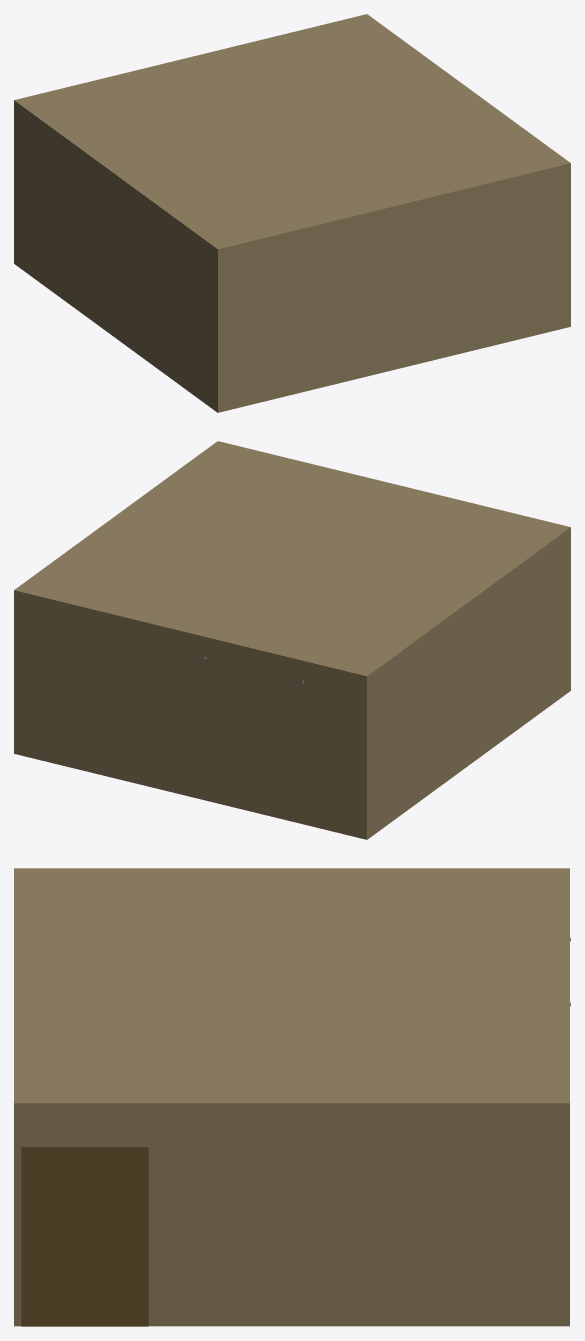
File: bottleescape_stageroom_12_fbx.fbx
3 renders of one model, top to bottom at view 1: azimuth 30°, elevation 25°; view 2: azimuth 150°, elevation 25°; view 3: azimuth 270°, elevation 25°, orthographic. The views are drawn at different scales.
Visible parts, largest first — view 1: pPlane1; view 2: pPlane1; view 3: pPlane1, pCube16.
Boxes of the visible parts, x1,y1,x2,y2 form: pPlane1: (14,14,570,412); pPlane1: (14,441,570,839); pPlane1: (14,868,569,1326); pCube16: (21,1147,148,1326).
Size of the model in its own units: 180 by 79.66 by 180.
